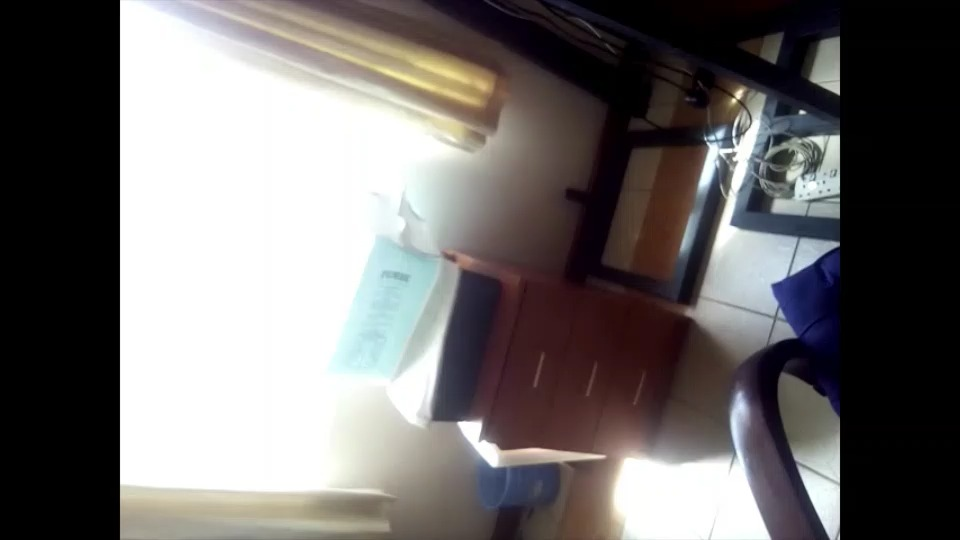wheat_flour_blue_label: (315, 206, 440, 383)
